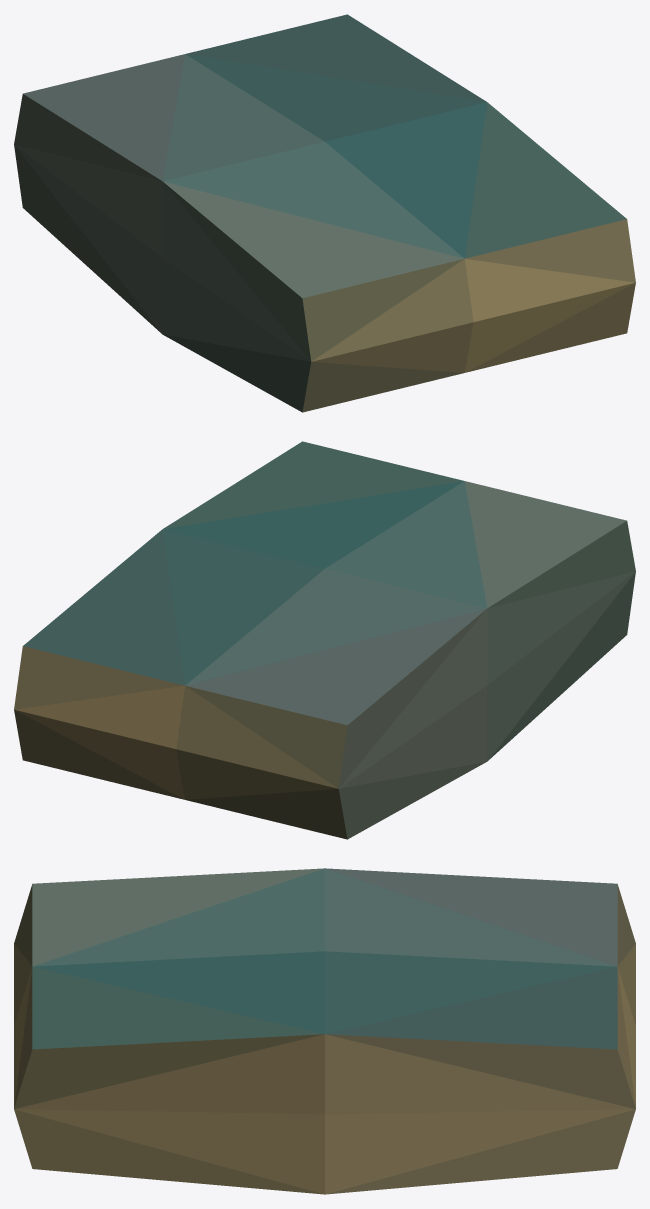
Rendered from prop_literature_book16.fbx.
3 views of the same model, one above another, from view 1: azimuth 30°, elevation 25°; view 2: azimuth 150°, elevation 25°; view 3: azimuth 270°, elevation 25° (orthographic). The views are drawn at different scales.
Parts seen in each view (by area): view 1: prop_literature_book16; view 2: prop_literature_book16; view 3: prop_literature_book16.
Boxes of the visible parts, bbox=[...] form: prop_literature_book16: bbox=[14, 14, 635, 412]; prop_literature_book16: bbox=[14, 441, 635, 839]; prop_literature_book16: bbox=[14, 868, 635, 1194].
Size of the model in its own units: 0.3895 by 0.1757 by 0.6175.
